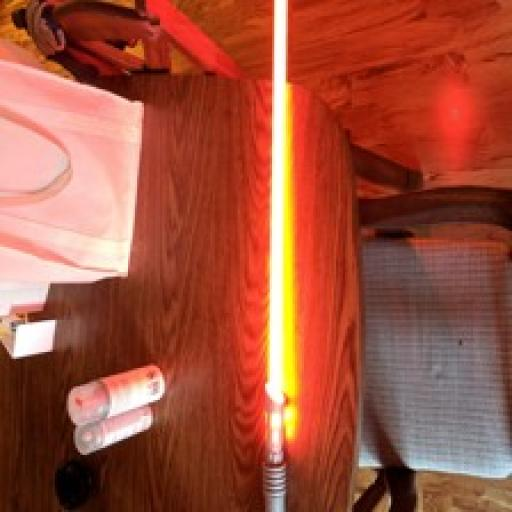lightsaber: (267, 2, 290, 512)
